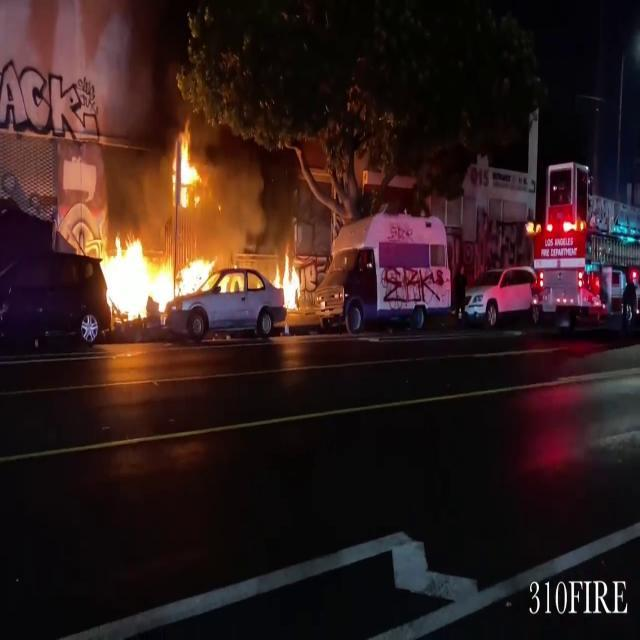Fire: (96, 228, 177, 318), (166, 112, 206, 216), (177, 242, 242, 300), (271, 248, 308, 318)
